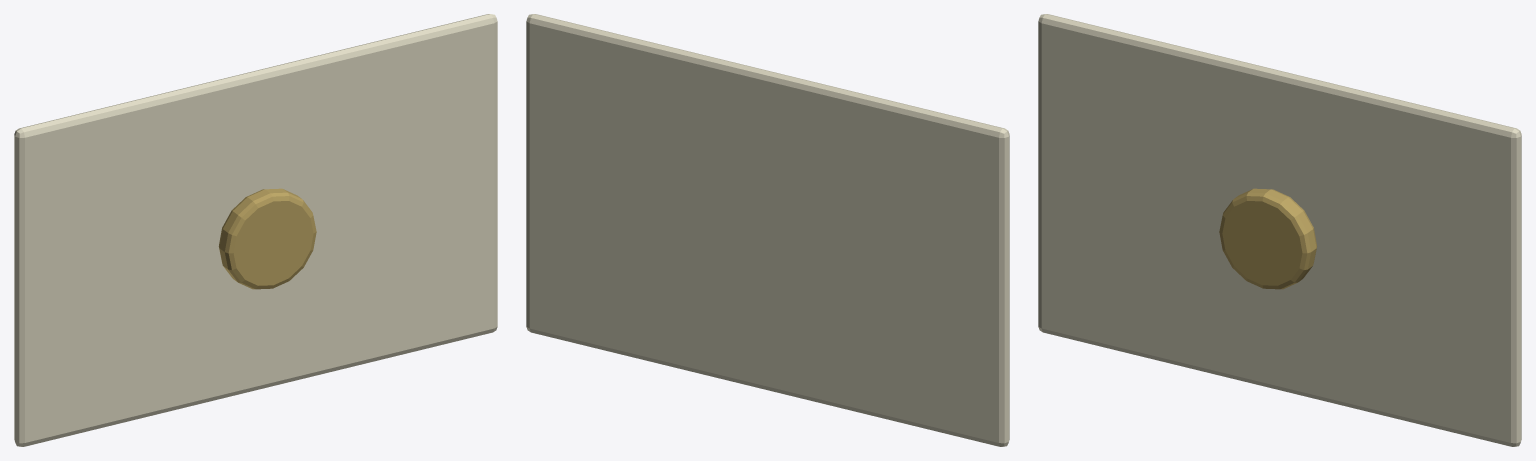
The model's file is folded_letter.glb.
The picture shows the model from 3 angles, left to right: view 1: azimuth 30°, elevation 25°; view 2: azimuth 150°, elevation 25°; view 3: azimuth 330°, elevation 25°; orthographic projection.
Parts seen in each view (by area): view 1: Closed folded letter, Unbroken seal; view 2: Closed folded letter; view 3: Closed folded letter, Unbroken seal.
Part boxes in pixels (bbox=[...]): Closed folded letter: bbox=[14, 14, 497, 446]; Unbroken seal: bbox=[218, 188, 316, 289]; Closed folded letter: bbox=[526, 14, 1009, 446]; Closed folded letter: bbox=[1038, 14, 1521, 446]; Unbroken seal: bbox=[1219, 188, 1317, 289].
Size of the model in its own units: 0.19 by 0.12 by 0.0145.
